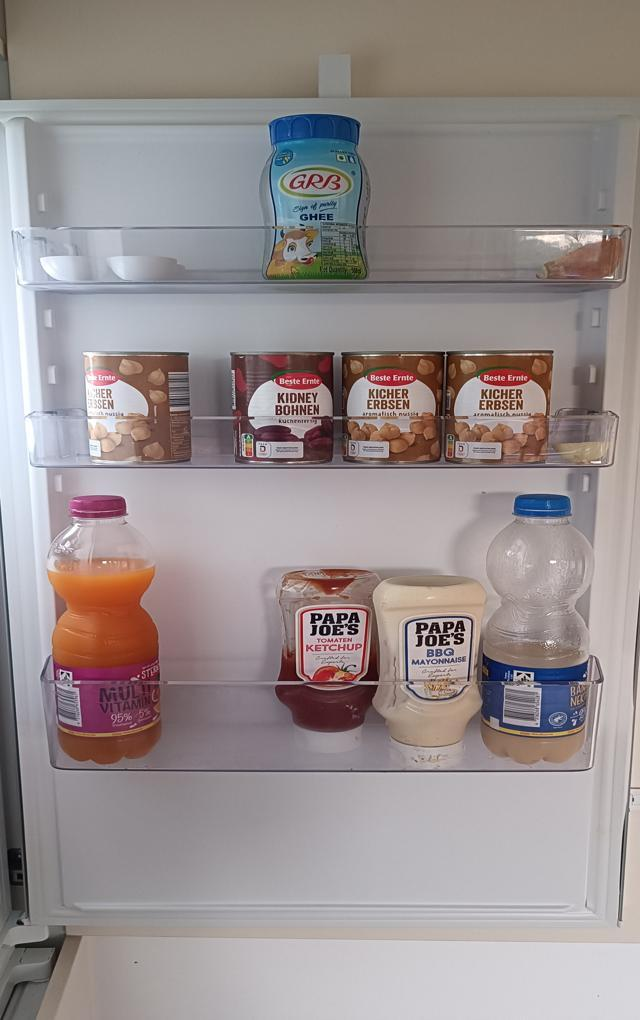bananajuice: (483, 490, 594, 763)
chickpeas: (84, 351, 192, 466), (340, 353, 444, 467), (447, 350, 551, 463)
ghee: (257, 109, 371, 288)
kidneybeans: (229, 350, 335, 465)
mayoniasie: (375, 572, 488, 766)
orangejuice: (49, 491, 159, 767)
tomatoketchup: (276, 562, 377, 754)
